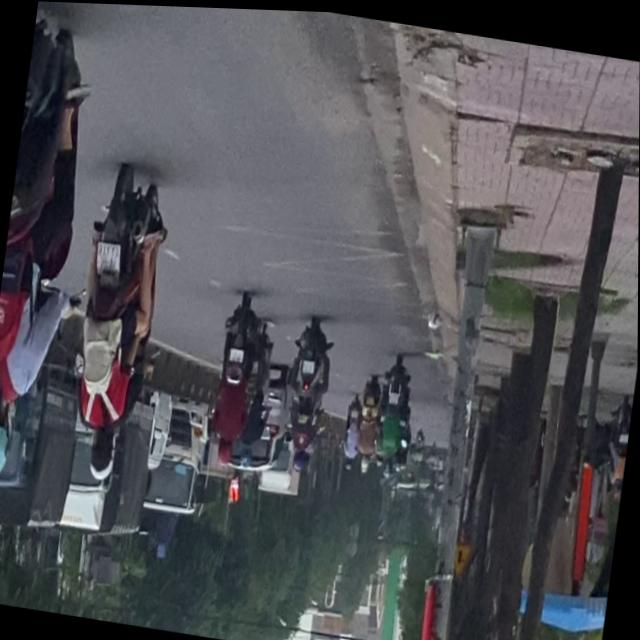helmet: (0, 397, 16, 485)
licenseplate: (0, 0, 107, 493), (54, 156, 175, 486)
motorcyclist: (84, 414, 117, 472)
nohelmet: (93, 240, 120, 272)
